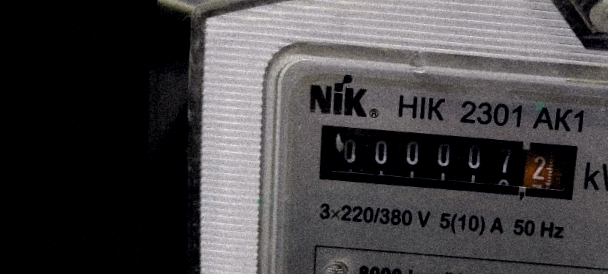0: (433, 139, 453, 168), (339, 135, 359, 163), (371, 136, 390, 165), (402, 137, 421, 166), (465, 141, 483, 171)
2: (529, 154, 548, 181)
7: (496, 144, 514, 175)
screen: (304, 110, 590, 212)
